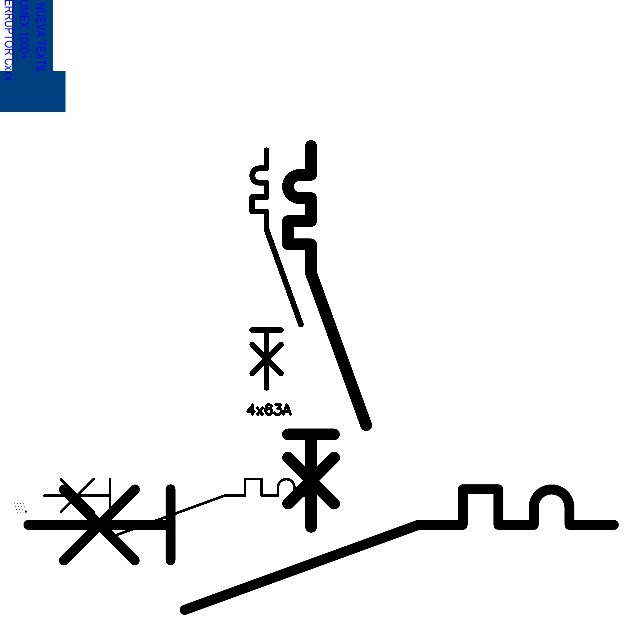interruptor_termomagnetico: (13, 474, 629, 625), (278, 136, 376, 537), (37, 472, 322, 541), (246, 144, 307, 394)
